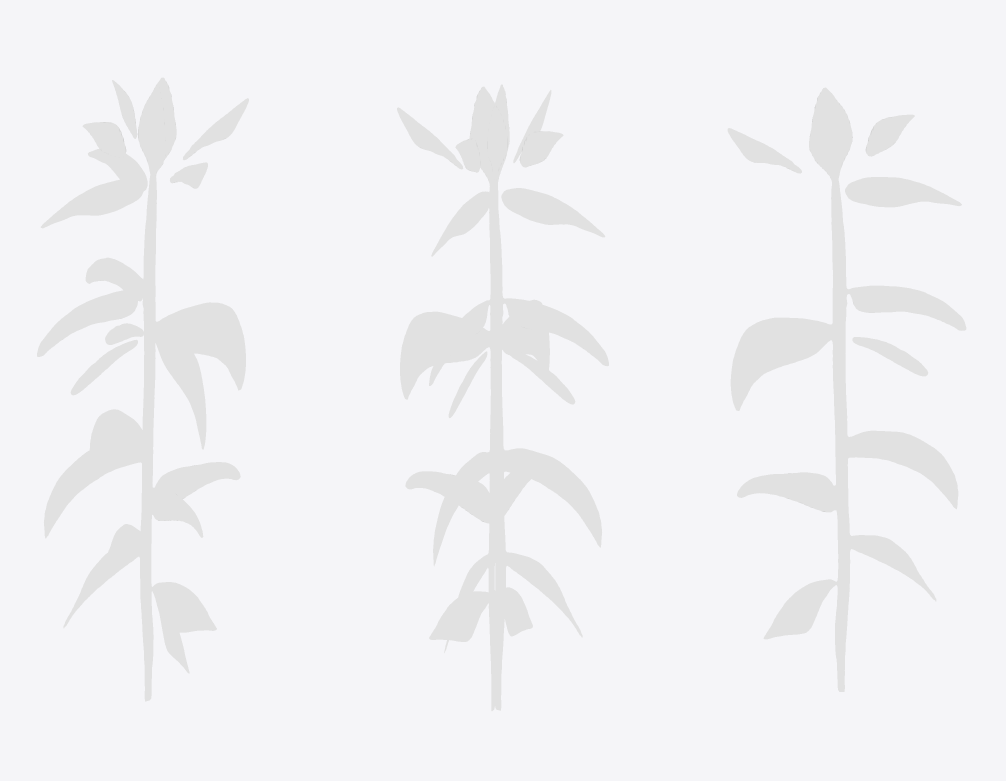
File: GrassLong01.fbx
The picture shows the model from 3 angles, left to right: view 1: azimuth 30°, elevation 25°; view 2: azimuth 150°, elevation 25°; view 3: azimuth 270°, elevation 25°; orthographic projection. The views are drawn at different scales.
Visible parts, largest first — view 1: GrassLon01; view 2: GrassLon01; view 3: GrassLon01.
Boxes of the visible parts, box(x1,y1,x2,y2) form: GrassLon01: box(37, 77, 248, 701); GrassLon01: box(397, 84, 608, 710); GrassLon01: box(727, 87, 966, 691).
Bounding box in the file's own units: 22.99 × 46.83 × 22.99.
